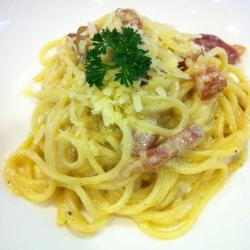carbonara: (37, 9, 234, 230)
